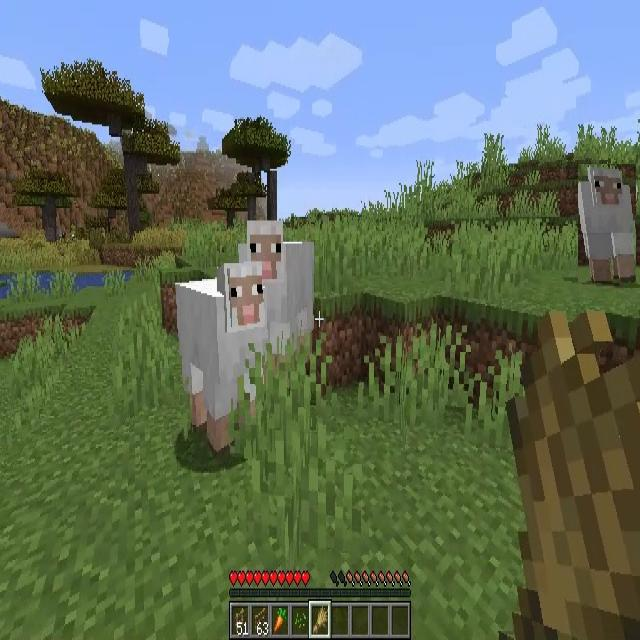sheep: (178, 262, 270, 450), (237, 225, 315, 382), (578, 164, 636, 283)
